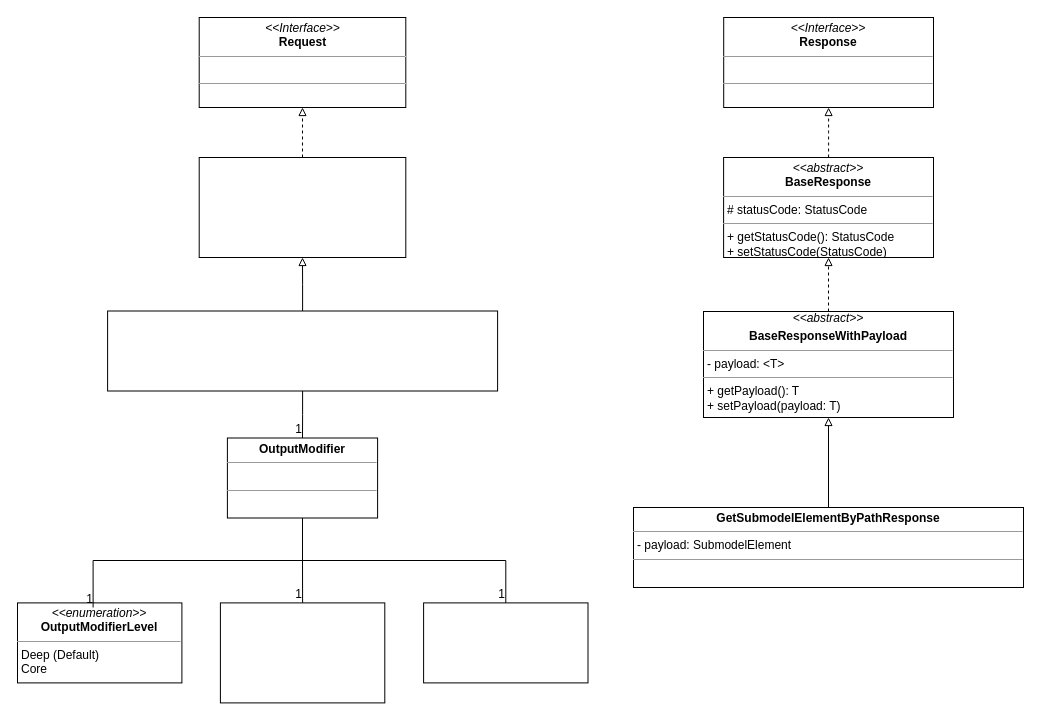
The diagram is 1041 pixels wide and 721 high, and some of its shapes have lost their labels. The centre of each missing label's shape, as x and y in pixels:
"<<abstract>> BaseRequest" goes at point 302,207.
"<<enumeration>> OutputModifier Content Normal (Default) Value Reference Path" goes at point 302,652.
"<<enumeration>> OutputModifier Extent WithoutBLOBValue (Default) WithBLOBValue" goes at point 505,642.
"GetSubmodelElementByPathRequest - path: key[ ]" goes at point 302,350.
